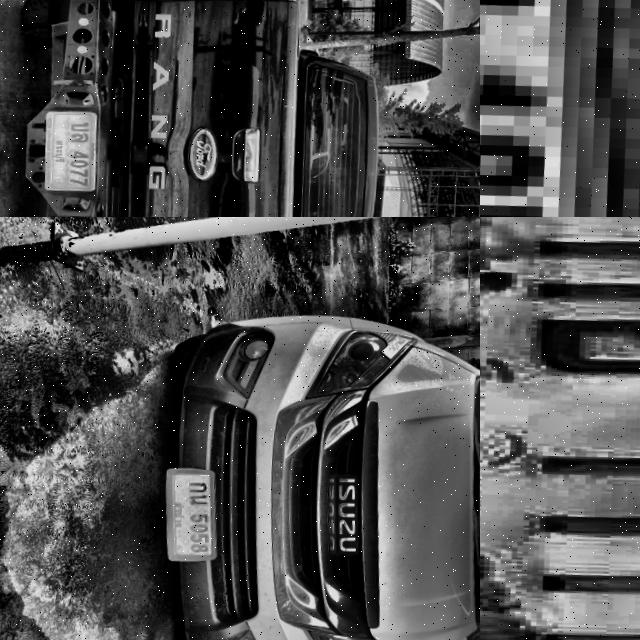license-plate: (480, 217, 640, 640), (480, 0, 640, 217), (165, 462, 226, 563), (42, 103, 107, 194)
